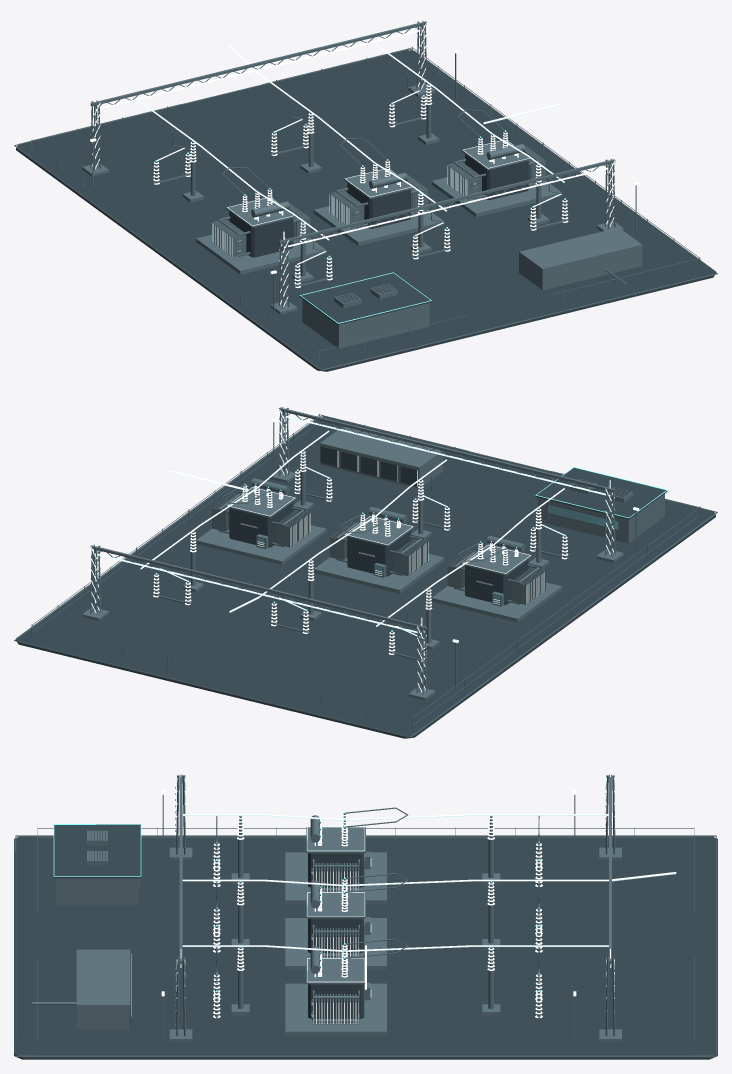
File: substation_transformer_yard.glb
3 views of the same model, one above another, from view 1: azimuth 30°, elevation 25°; view 2: azimuth 150°, elevation 25°; view 3: azimuth 270°, elevation 25° (orthographic). The views are drawn at different scales.
Visible parts, largest first — view 1: substation_transformer_yard_graphite, substation_transformer_yard_graphite_light, substation_transformer_yard_white; view 2: substation_transformer_yard_graphite, substation_transformer_yard_graphite_light, substation_transformer_yard_white; view 3: substation_transformer_yard_graphite, substation_transformer_yard_graphite_light, substation_transformer_yard_white, substation_transformer_yard_edge.
Boxes of the visible parts, <box> form: substation_transformer_yard_graphite: <box>16,50,715,371</box>; substation_transformer_yard_graphite_light: <box>14,20,717,370</box>; substation_transformer_yard_white: <box>90,14,639,307</box>; substation_transformer_yard_graphite: <box>16,417,715,738</box>; substation_transformer_yard_graphite_light: <box>14,407,717,737</box>; substation_transformer_yard_white: <box>90,400,639,692</box>; substation_transformer_yard_graphite: <box>14,824,717,1059</box>; substation_transformer_yard_graphite_light: <box>15,774,716,1056</box>; substation_transformer_yard_white: <box>131,767,676,1023</box>; substation_transformer_yard_edge: <box>53,811,539,991</box>.
Bounding box in the file's own units: 88 × 16.7 × 118.
